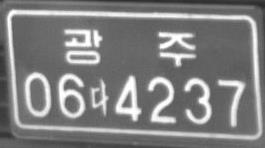0: (24, 71, 52, 118)
2: (147, 76, 176, 123)
3: (183, 76, 212, 124)
4: (114, 75, 141, 121)
6: (57, 73, 86, 119)
7: (217, 77, 247, 127)
광주_D: (63, 28, 196, 67)
다: (90, 77, 109, 116)
